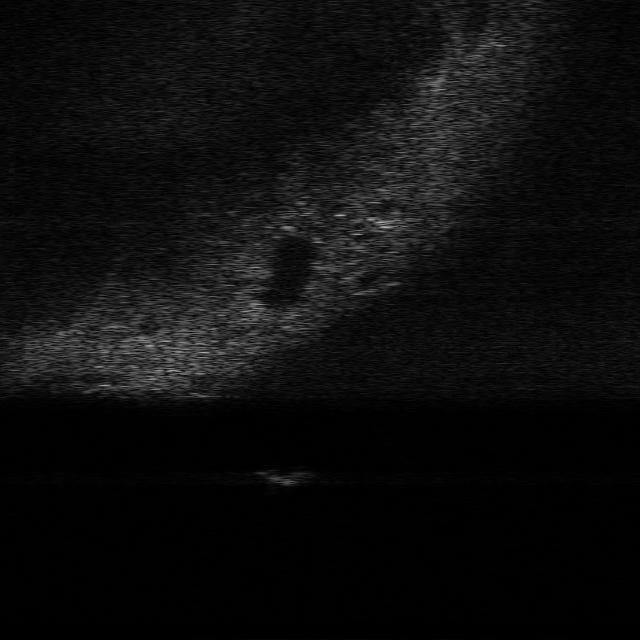cube: (256, 469, 318, 487)
